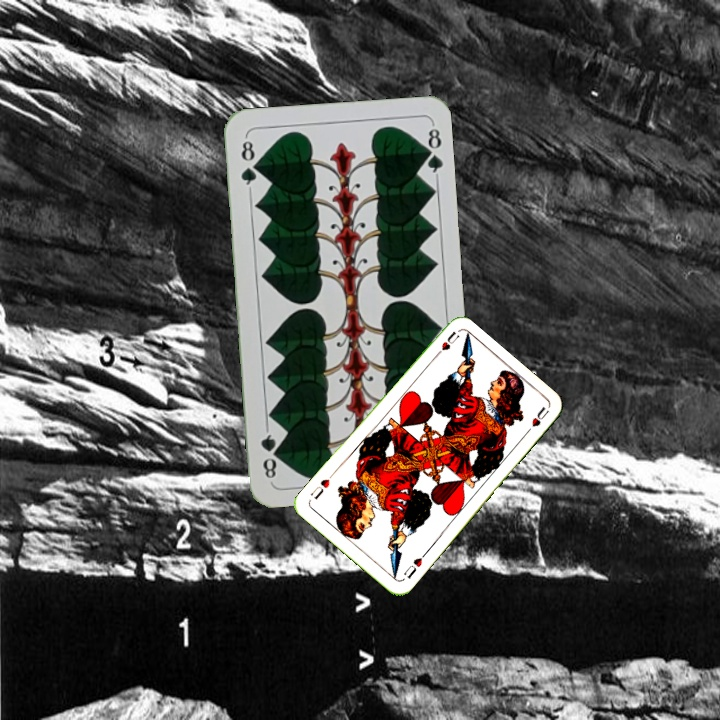G8: (236, 133, 260, 192)
HU: (430, 327, 462, 361), (400, 554, 425, 581)
